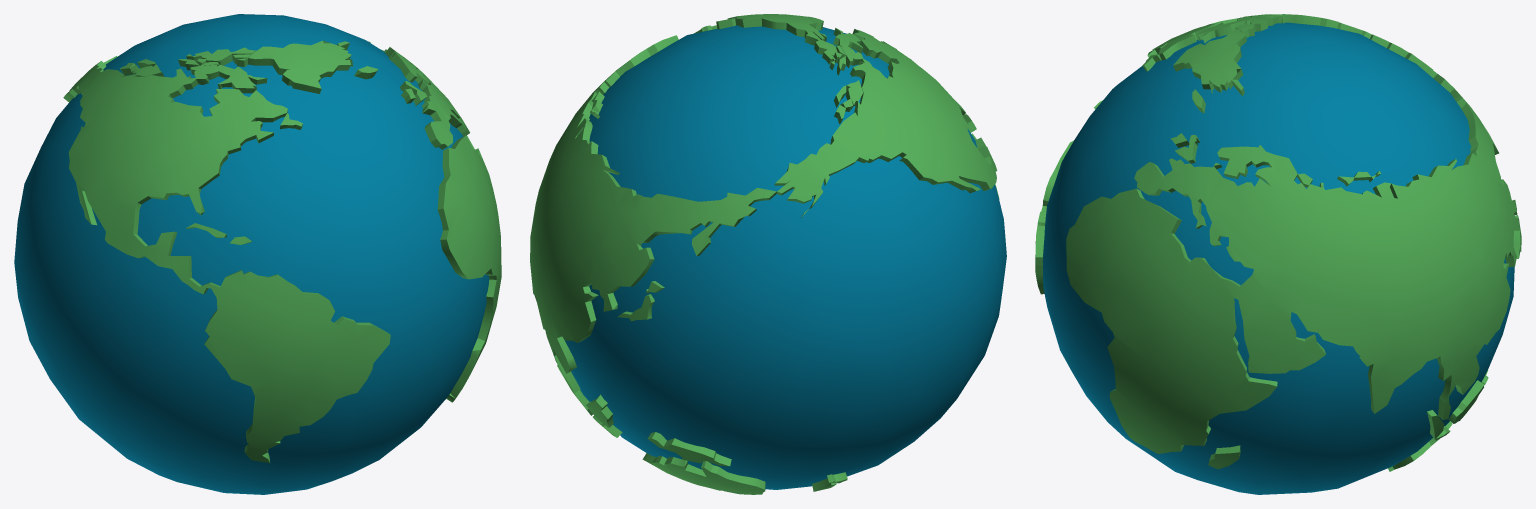
The model's file is earth_mobile.glb.
The picture shows the model from 3 angles, left to right: view 1: azimuth 30°, elevation 25°; view 2: azimuth 150°, elevation 25°; view 3: azimuth 270°, elevation 25°; orthographic projection. The views are drawn at different scales.
Parts seen in each view (by area): view 1: Esfera geodésica.002, Map.002; view 2: Esfera geodésica.002, Map.002; view 3: Map.002, Esfera geodésica.002.
Part boxes in pixels (left/top/right/bottom): Esfera geodésica.002: left=14, top=14, right=489, bottom=494; Map.002: left=63, top=40, right=501, bottom=463; Esfera geodésica.002: left=565, top=25, right=1006, bottom=489; Map.002: left=530, top=14, right=999, bottom=494; Map.002: left=1035, top=14, right=1521, bottom=471; Esfera geodésica.002: left=1042, top=22, right=1514, bottom=494.
Size of the model in its own units: 0.7165 by 0.7138 by 0.7243.
